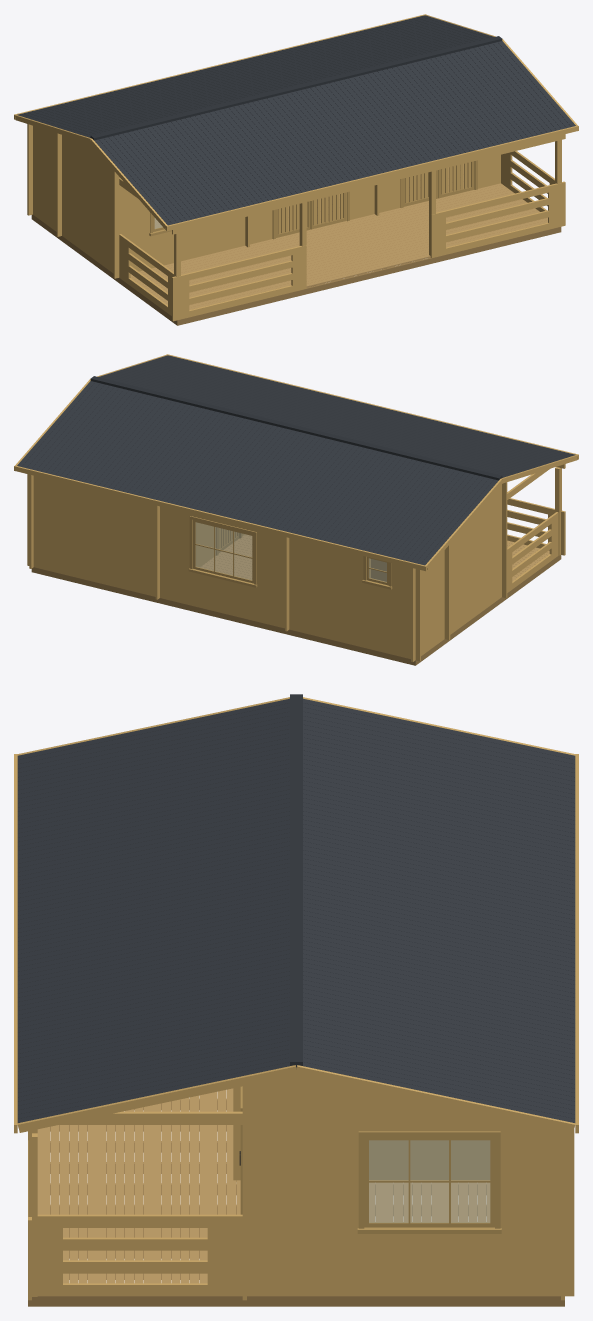
The model's file is аманда_6_9_44_мм_крытая_терраса_спереди.glb.
3 views of the same model, one above another, from view 1: azimuth 30°, elevation 25°; view 2: azimuth 150°, elevation 25°; view 3: azimuth 270°, elevation 25° (orthographic). The views are drawn at different scales.
Parts seen in each view (by area): view 1: roof, walls, floor, house; view 2: roof, walls, house, object 196, floor; view 3: roof, walls, floor, object 218, house, object 224, object 225, object 217.
Boxes of the visible parts, x1=… form: roof: x1=14, y1=14, x2=578, y2=231; walls: x1=27, y1=124, x2=565, y2=321; floor: x1=130, y1=164, x2=547, y2=309; house: x1=31, y1=214, x2=561, y2=325; roof: x1=14, y1=354, x2=578, y2=571; walls: x1=27, y1=464, x2=565, y2=661; house: x1=31, y1=555, x2=561, y2=665; object 196: x1=196, y1=522, x2=251, y2=579; floor: x1=200, y1=534, x2=549, y2=580; roof: x1=14, y1=694, x2=578, y2=1133; walls: x1=28, y1=1075, x2=574, y2=1300; floor: x1=37, y1=1088, x2=490, y2=1283; object 218: x1=369, y1=1140, x2=489, y2=1222; house: x1=28, y1=1099, x2=564, y2=1306; object 224: x1=359, y1=1131, x2=500, y2=1137; object 225: x1=357, y1=1228, x2=501, y2=1233; object 217: x1=364, y1=1222, x2=494, y2=1227.
Size of the model in its own units: 9.39 by 3.02 by 6.05.
